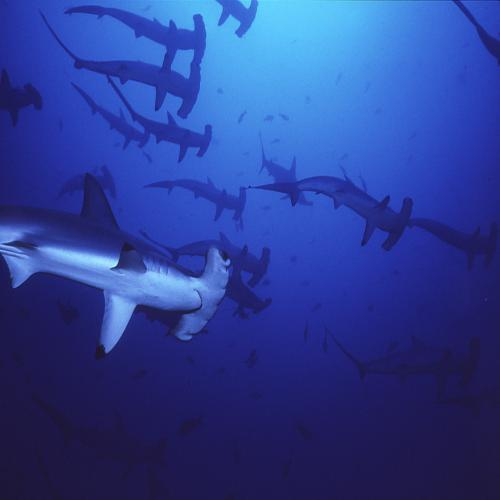shark-endangered: (3, 192, 230, 362), (306, 161, 412, 254), (66, 0, 211, 55), (118, 93, 219, 165), (161, 228, 270, 280), (153, 171, 250, 222), (134, 99, 210, 157), (84, 88, 146, 154), (258, 134, 305, 209)
